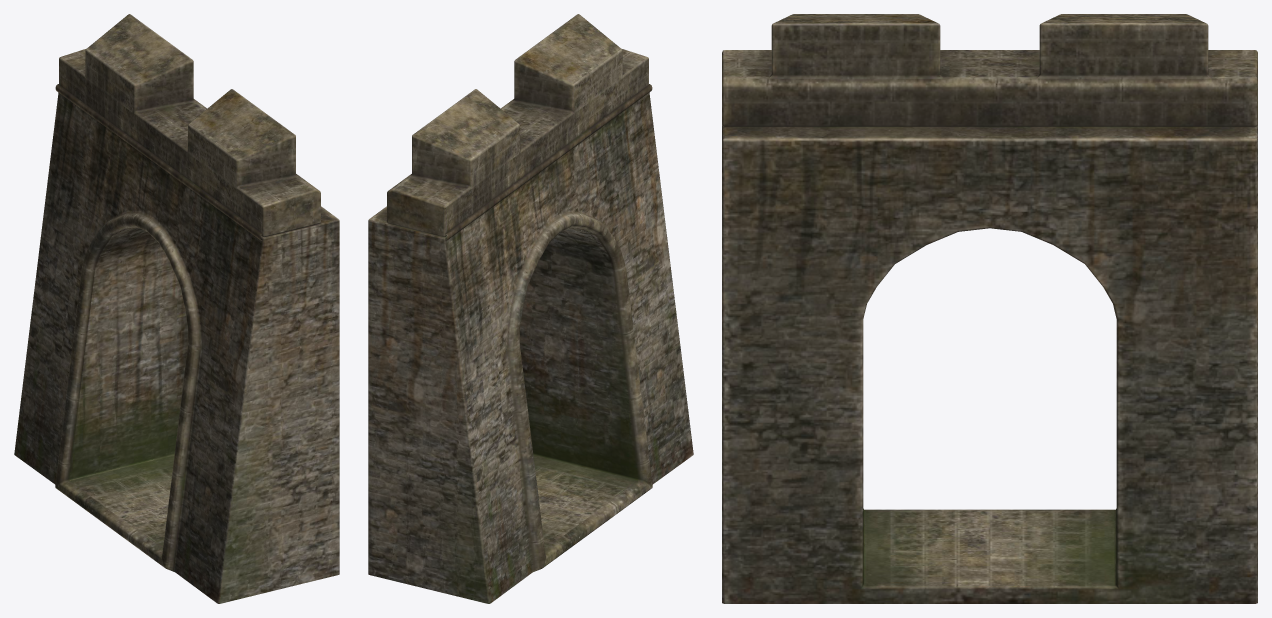
File: wall_gate.glb
3 views of the same model, side by side, from view 1: azimuth 30°, elevation 25°; view 2: azimuth 150°, elevation 25°; view 3: azimuth 270°, elevation 25° (orthographic). The views are drawn at different scales.
Visible parts, largest first — view 1: wall_gate; view 2: wall_gate; view 3: wall_gate.
Part boxes in pixels (x1,y1,x2,y2): wall_gate: (14,14,339,603); wall_gate: (368,14,693,603); wall_gate: (722,14,1257,603).
Size of the model in its own units: 1.59 by 5.13 by 4.41.
1 material, 1 textured.
